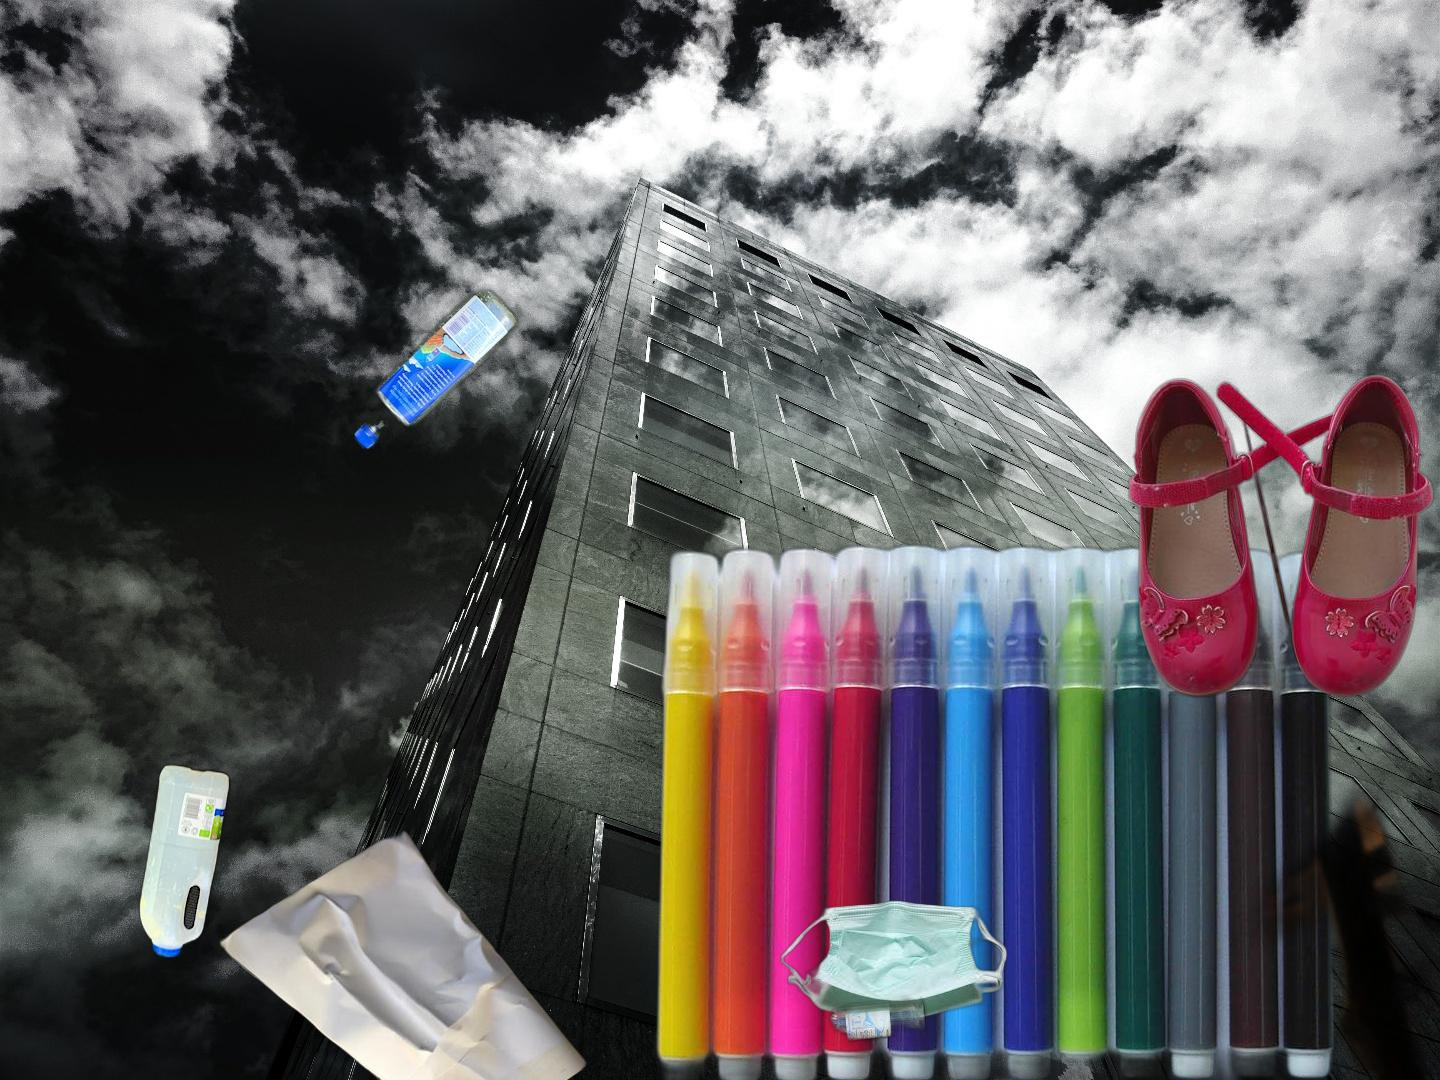glass: (824, 992, 949, 1056)
paper: (215, 827, 592, 1080)
penholder: (608, 537, 1408, 1080)
plastic-bottles: (349, 282, 524, 456), (135, 759, 235, 964)
shoes: (1124, 370, 1437, 819)
trash: (779, 898, 1010, 1025)
trashbox-cardboard: (1099, 513, 1440, 1080)
